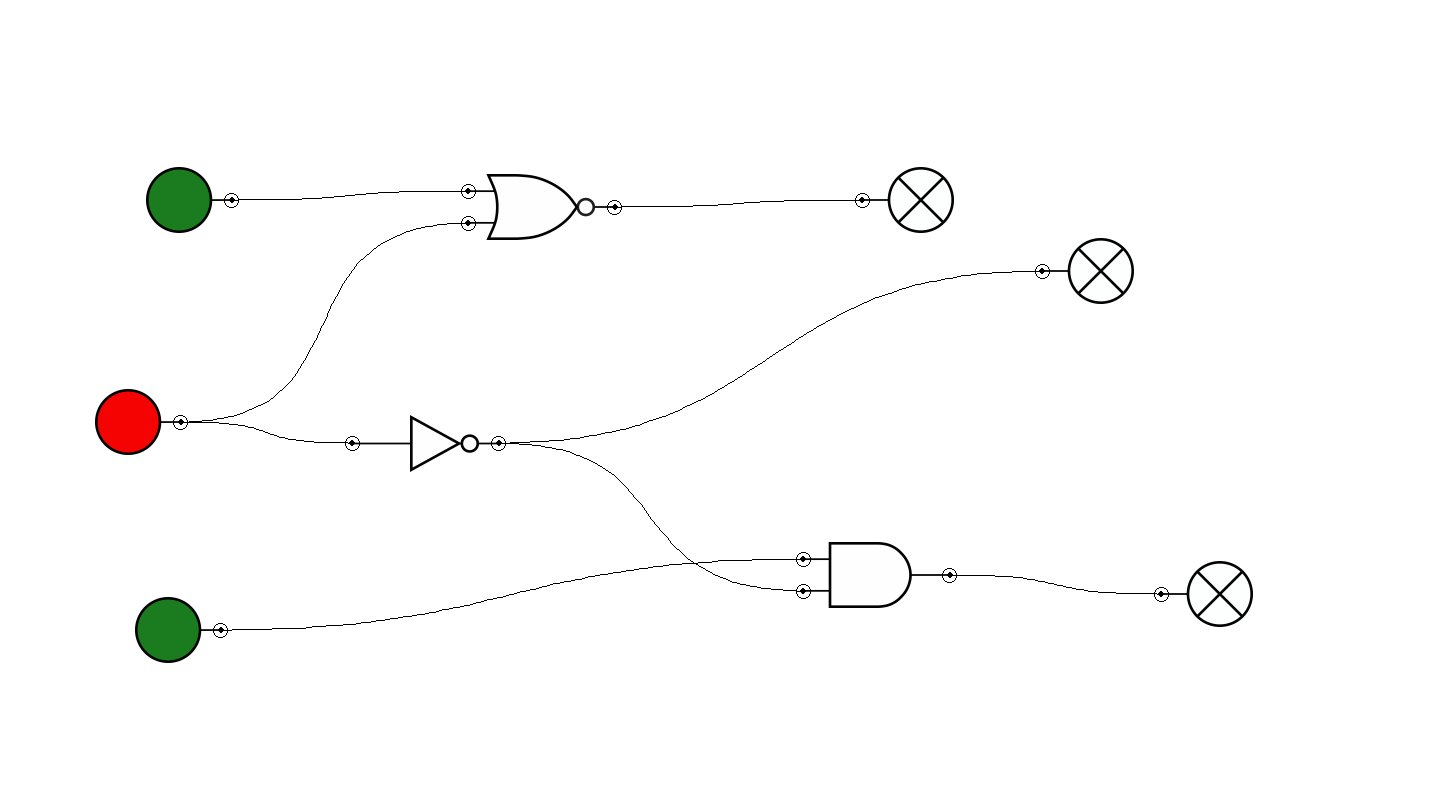and: (796, 542, 957, 608)
bulb: (1154, 561, 1253, 627), (1035, 238, 1134, 304), (855, 167, 954, 233)
nor: (461, 174, 622, 240)
not: (345, 415, 506, 472)
switch_False: (95, 389, 188, 455)
switch_True: (146, 167, 239, 233), (135, 597, 228, 663)
